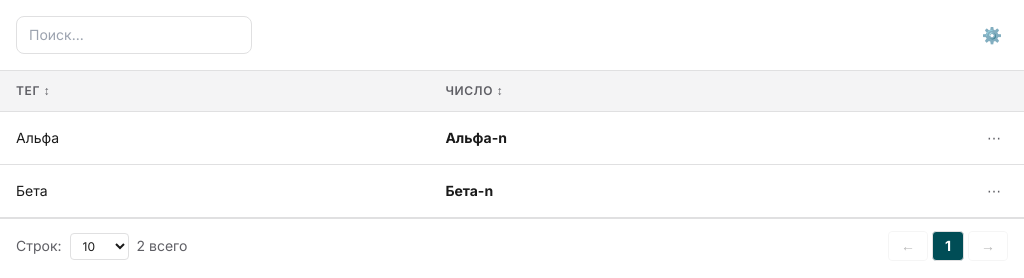
DataTable search › ✕ clear button appears when non-empty and submits empty string
Expected: the text "✕" is not shown
Step 1. Type "x" into the field with placeholder "Поиск..." → (134,35), box 16,16 -> 252,54
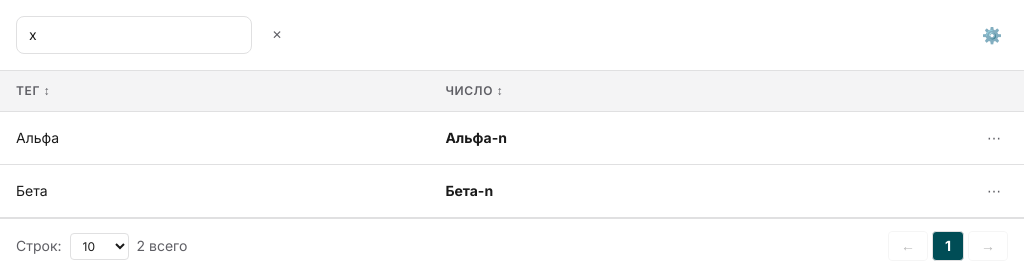
Step 2. Click the button "✕" → (277,35), box 264,23 -> 290,47
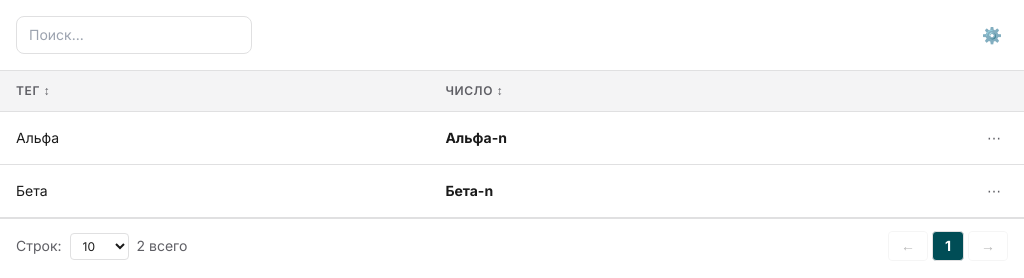
Expected: the field with placeholder "Поиск..." is empty, 16,16 -> 252,54
